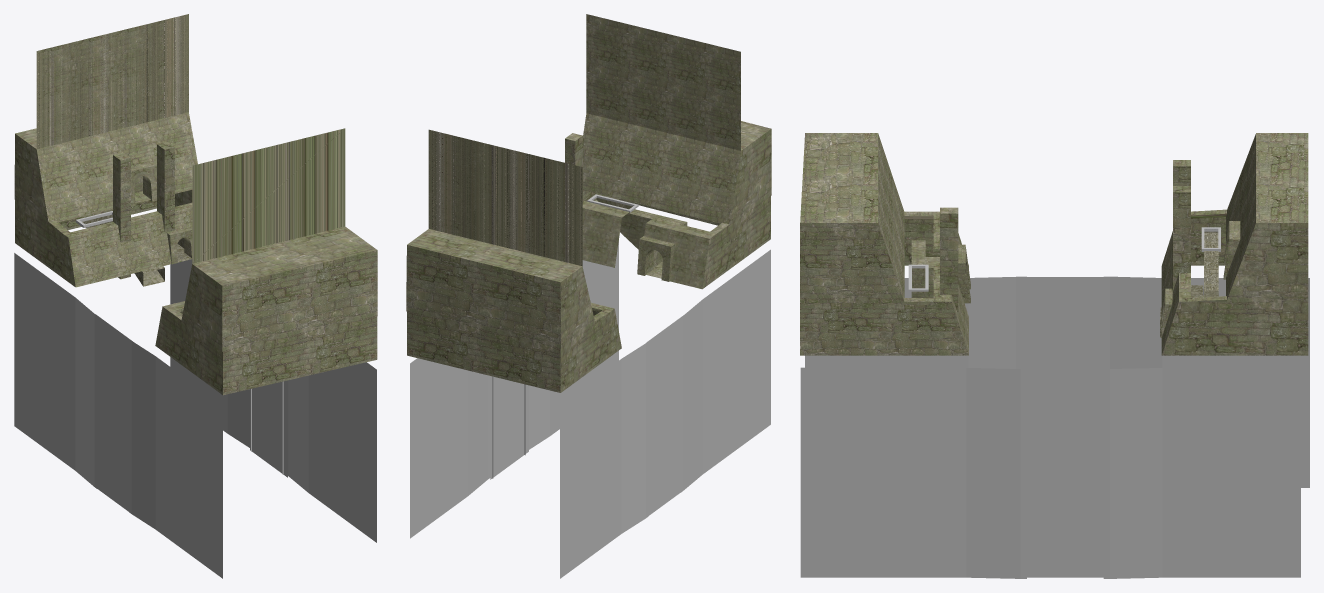
The model's file is SM_Chateaux_05_03.fbx.
3 renders of one model, left to right at view 1: azimuth 30°, elevation 25°; view 2: azimuth 150°, elevation 25°; view 3: azimuth 270°, elevation 25°, orthographic. The views are drawn at different scales.
Parts seen in each view (by area): view 1: SM_Chateaux_05_34, SM_Chateaux_05_03, SM_Chateaux_05_03.001; view 2: SM_Chateaux_05_34, SM_Chateaux_05_03, SM_Chateaux_05_03.001; view 3: SM_Chateaux_05_34, SM_Chateaux_05_03.
Boxes of the visible parts, x1,y1,x2,y2 form: SM_Chateaux_05_34: (14,253,376,578); SM_Chateaux_05_03: (14,112,377,395); SM_Chateaux_05_03.001: (36,14,345,263); SM_Chateaux_05_34: (410,240,770,578); SM_Chateaux_05_03: (406,113,771,392); SM_Chateaux_05_03.001: (428,14,740,266); SM_Chateaux_05_34: (800,276,1309,578); SM_Chateaux_05_03: (800,133,1308,355).
Size of the model in its own units: 3366 by 8038 by 7840.
